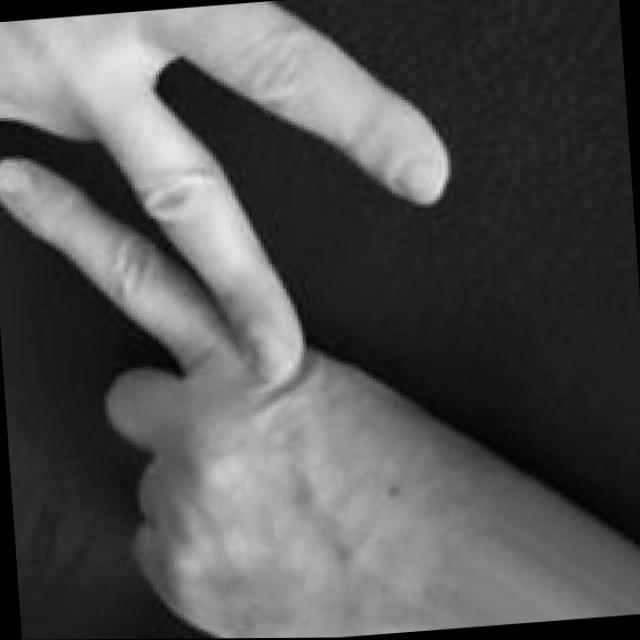Z: (0, 0, 491, 640)
